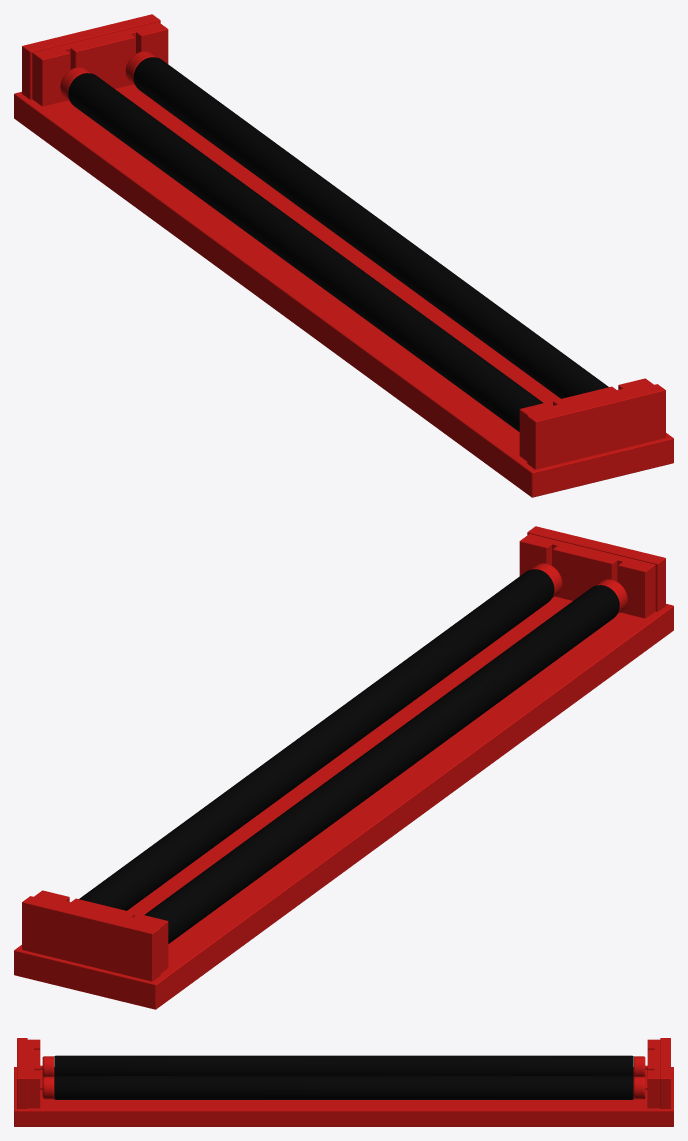
3 views of the same model, one above another, from view 1: azimuth 30°, elevation 25°; view 2: azimuth 150°, elevation 25°; view 3: azimuth 270°, elevation 25° (orthographic). The views are drawn at different scales.
Parts seen in each view (by area): view 1: Cylinder, Cube.001, Cube.002, Cube, Cylinder.001; view 2: Cylinder, Cube.001, Cube.002, Cube, Cylinder.001; view 3: Cylinder, Cube.001, Cube, Cube.002, Cylinder.001.
Boxes of the visible parts, <box> form: Cylinder: <box>68,57,608,431</box>; Cube.001: <box>14,84,673,497</box>; Cube.002: <box>22,14,665,469</box>; Cube: <box>32,22,653,460</box>; Cylinder.001: <box>60,51,156,101</box>; Cylinder: <box>79,569,619,943</box>; Cube.001: <box>14,596,673,1009</box>; Cube.002: <box>22,526,665,981</box>; Cube: <box>34,534,655,972</box>; Cylinder.001: <box>531,563,627,613</box>; Cylinder: <box>54,1055,633,1099</box>; Cube.001: <box>14,1067,673,1126</box>; Cube: <box>27,1039,660,1108</box>; Cube.002: <box>17,1038,670,1108</box>; Cylinder.001: <box>42,1056,645,1099</box>.
Size of the model in its own units: 260 by 128 by 1639.
